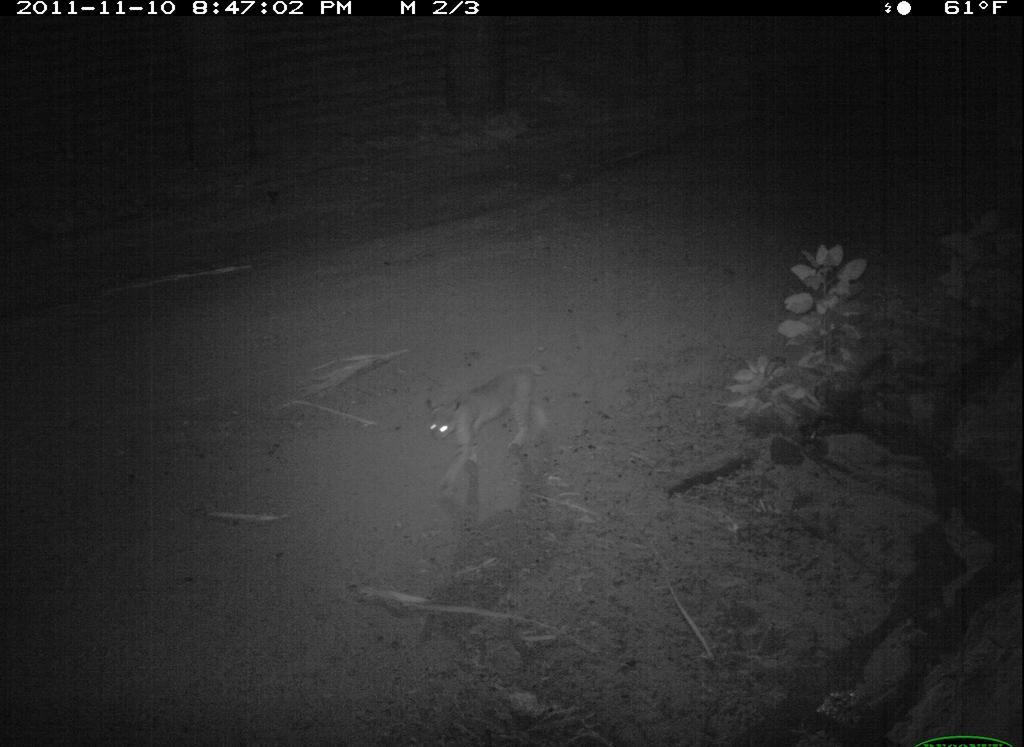bobcat: (420, 358, 564, 477)
